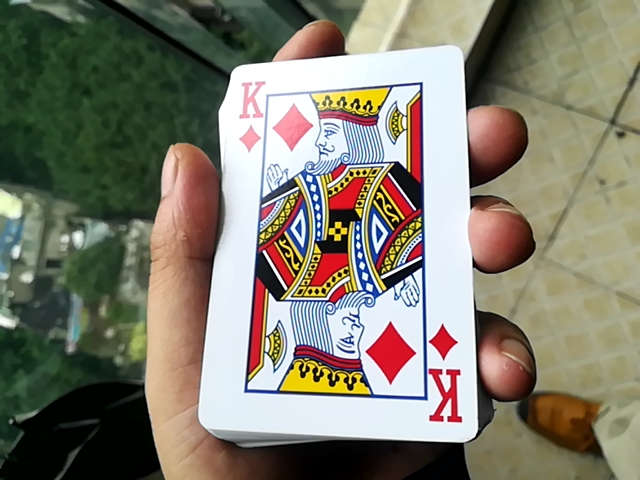fk k: (193, 35, 467, 441)
